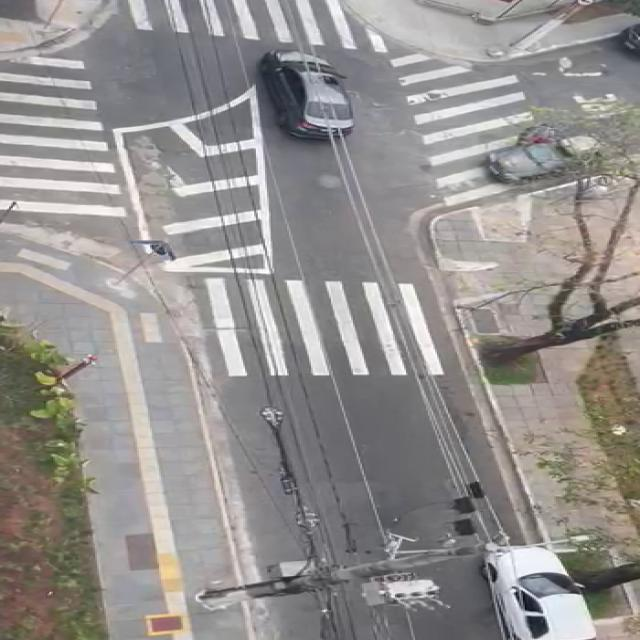car: (466, 539, 611, 640), (252, 42, 361, 145), (478, 129, 606, 190)
